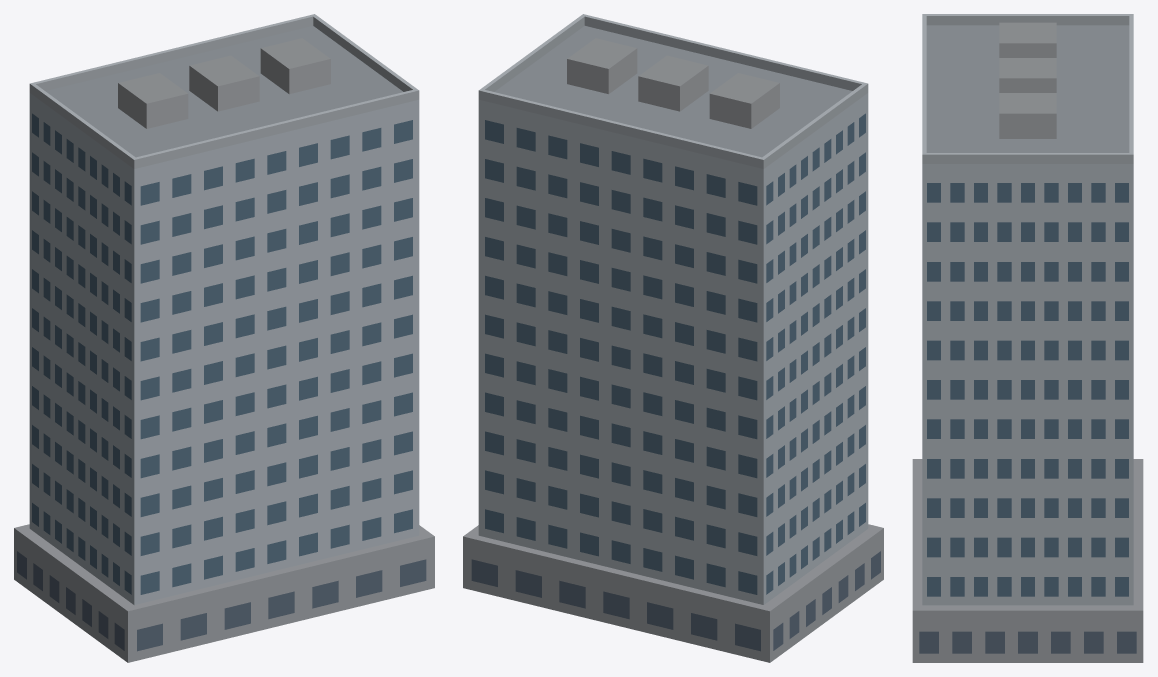
Rendered from highrise_04_glass_office.glb.
The picture shows the model from 3 angles, left to right: view 1: azimuth 30°, elevation 25°; view 2: azimuth 150°, elevation 25°; view 3: azimuth 270°, elevation 25°; orthographic projection.
Parts seen in each view (by area): view 1: highrise_04_glass_office; view 2: highrise_04_glass_office; view 3: highrise_04_glass_office.
Part boxes in pixels (x1,y1,x2,y2): highrise_04_glass_office: (14,14,434,662); highrise_04_glass_office: (463,14,883,662); highrise_04_glass_office: (912,14,1143,662).
Bounding box in the file's own units: 28.03 × 44.7 × 18.03.
